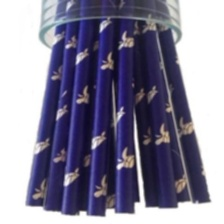drinking_straw: (59, 0, 101, 220), (112, 0, 138, 217)
glass: (33, 0, 189, 55)
